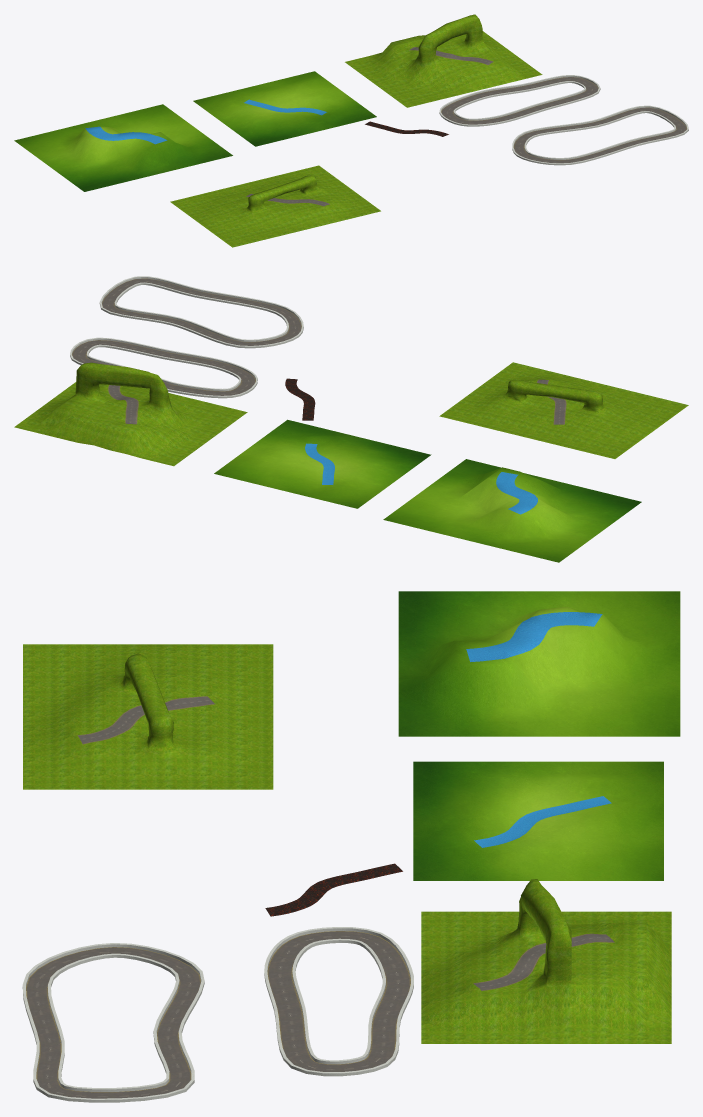
File: river_lava_road.obj
The picture shows the model from 3 angles, top to bottom: view 1: azimuth 30°, elevation 25°; view 2: azimuth 150°, elevation 25°; view 3: azimuth 270°, elevation 25°; orthographic projection. The views are drawn at different scales.
Parts seen in each view (by area): view 1: Plane003, Plane002, Plane004, Plane001, Loft003, Loft002, Loft001; view 2: Plane003, Plane002, Plane004, Plane001, Loft003, Loft002, Loft001; view 3: Plane003, Plane004, Plane002, Plane001, Loft003, Loft002, Loft001.
Part boxes in pixels (left/top/right/bottom): Plane003: left=14, top=104, right=232, bottom=191; Plane002: left=345, top=14, right=542, bottom=107; Plane004: left=170, top=165, right=380, bottom=247; Plane001: left=193, top=71, right=376, bottom=146; Loft003: left=512, top=105, right=688, bottom=165; Loft002: left=439, top=75, right=600, bottom=126; Loft001: left=365, top=121, right=448, bottom=136; Plane003: left=383, top=459, right=641, bottom=562; Plane002: left=14, top=362, right=247, bottom=466; Plane004: left=439, top=362, right=688, bottom=458; Plane001: left=214, top=419, right=431, bottom=508; Loft003: left=99, top=276, right=303, bottom=348; Loft002: left=70, top=337, right=257, bottom=398; Loft001: left=285, top=378, right=315, bottom=420; Plane003: left=398, top=591, right=680, bottom=736; Plane004: left=23, top=644, right=273, bottom=789; Plane002: left=421, top=879, right=671, bottom=1043; Plane001: left=413, top=761, right=663, bottom=880; Loft003: left=22, top=943, right=204, bottom=1102; Loft002: left=264, top=927, right=413, bottom=1076; Loft001: left=265, top=863, right=402, bottom=916.
Size of the model in its own units: 3856 by 310 by 2101.
